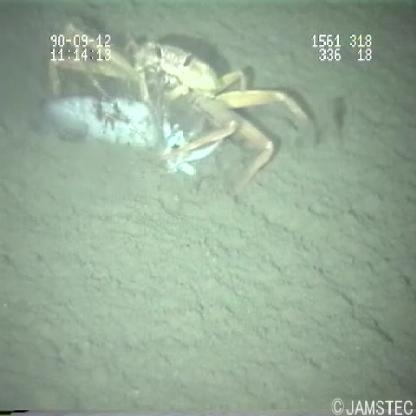Bio: (33, 22, 325, 184)
